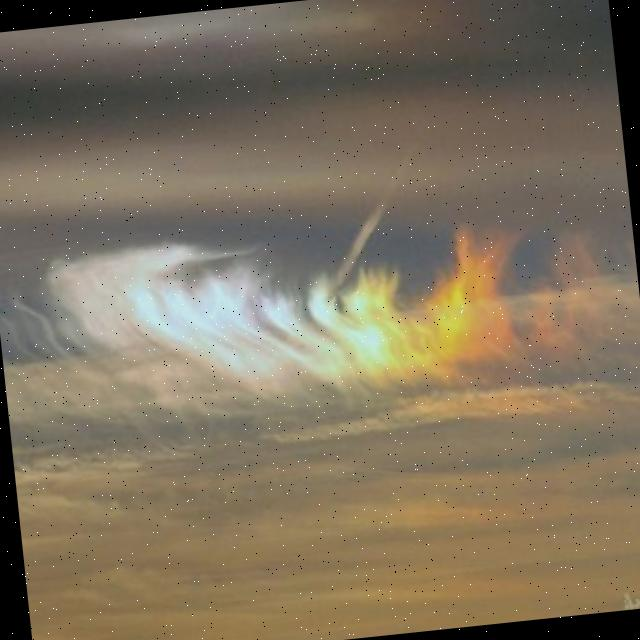Cc: (1, 155, 640, 547)
